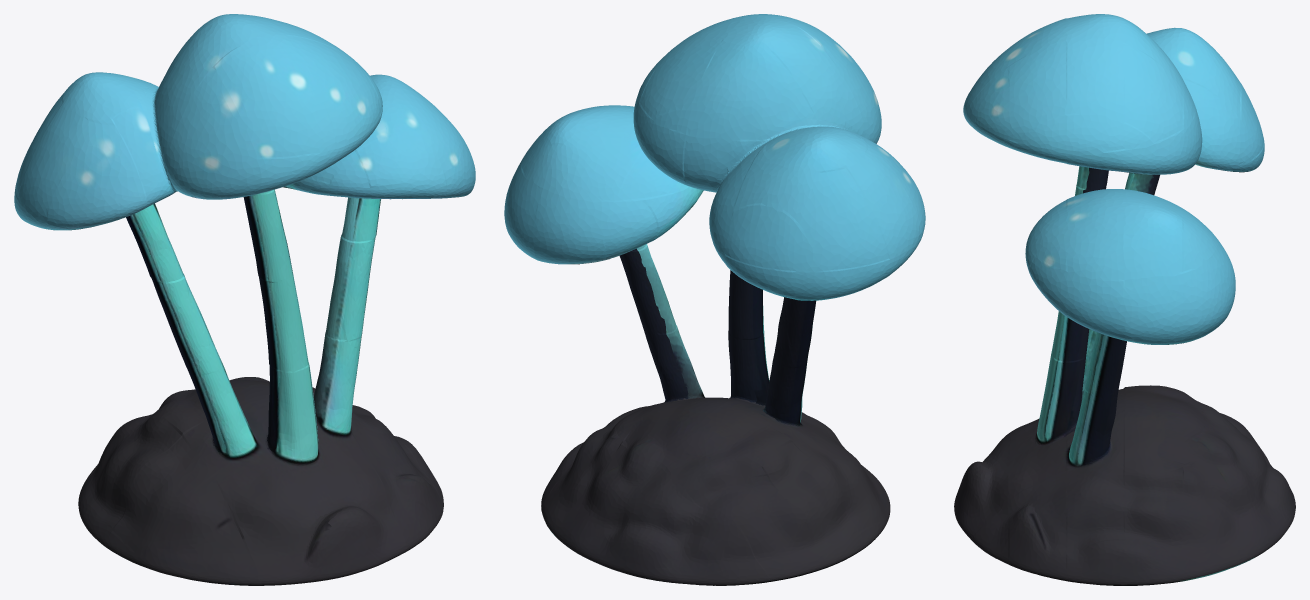
File: hunyuan_alien_mushroom_textured.glb
3 views of the same model, side by side, from view 1: azimuth 30°, elevation 25°; view 2: azimuth 150°, elevation 25°; view 3: azimuth 270°, elevation 25° (orthographic). The views are drawn at different scales.
Visible parts, largest first — view 1: tmpr6ppql83.ply; view 2: tmpr6ppql83.ply; view 3: tmpr6ppql83.ply.
Boxes of the visible parts, x1,y1,x2,y2 form: tmpr6ppql83.ply: [14, 14, 475, 585]; tmpr6ppql83.ply: [504, 14, 925, 585]; tmpr6ppql83.ply: [954, 14, 1295, 585].
Bounding box in the file's own units: 1.72 × 1.99 × 1.29.
Materials: 1 (1 with a texture image).
